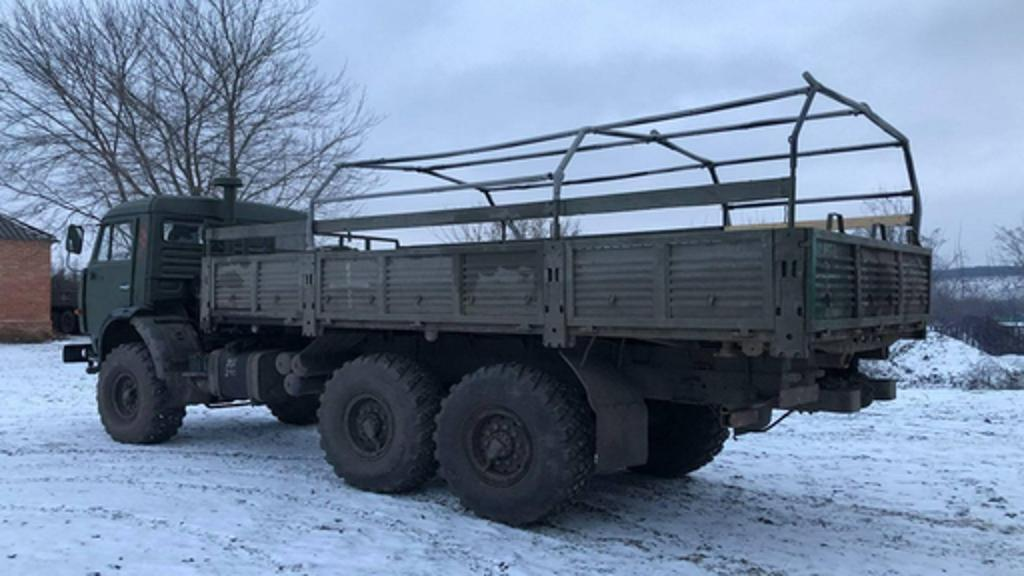TRUCK: (36, 68, 932, 546)
